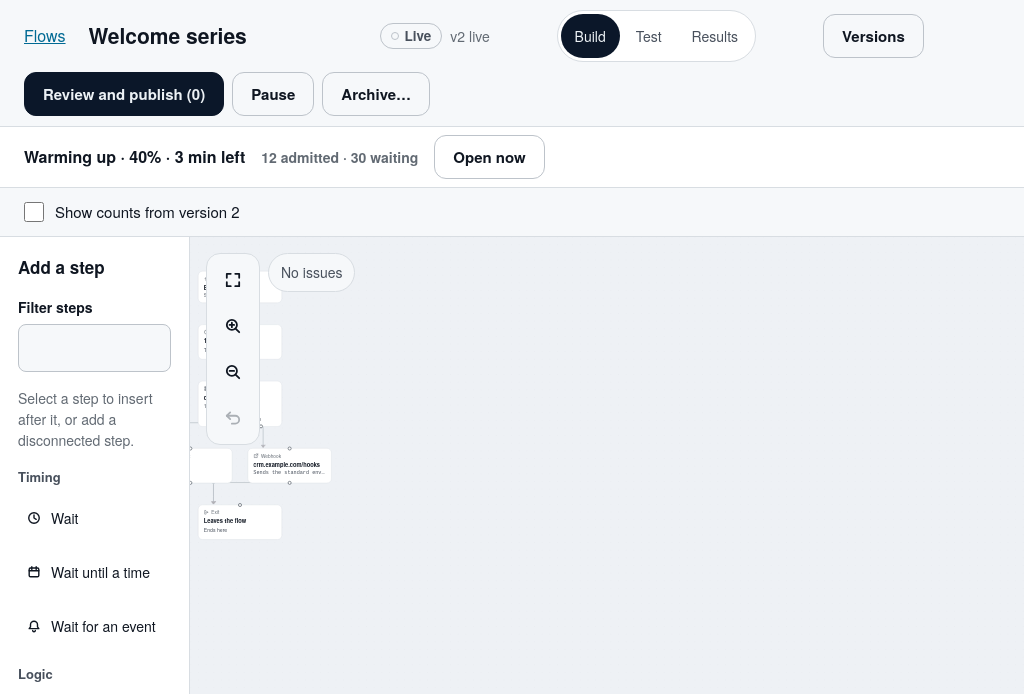
Test: the warm-up state line › says why when the flow could not be opened
The width and height of the screenshot is (1024, 694).
Click the button "Open now": click(490, 157) x1=434 y1=135 x2=545 y2=179
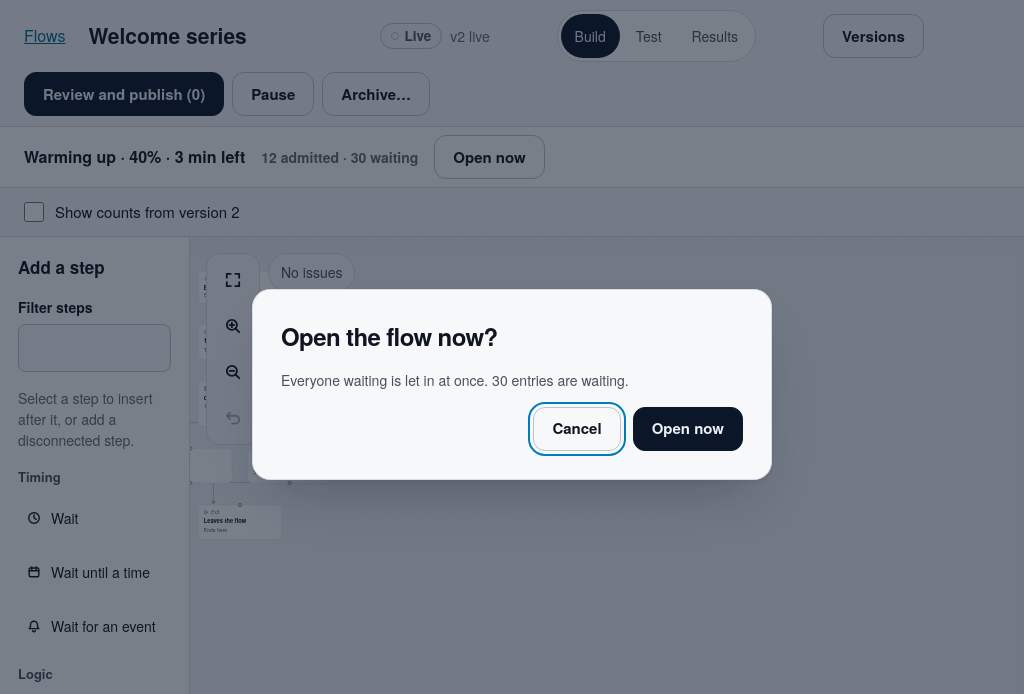
Click the button "Open now": click(688, 428) x1=633 y1=406 x2=743 y2=450
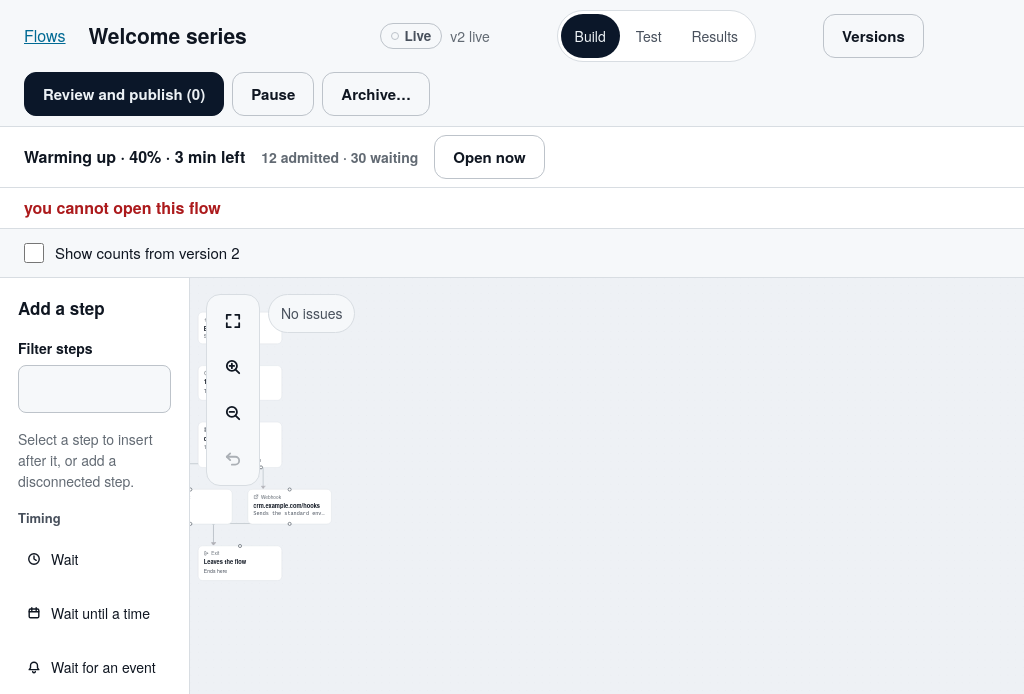
Check: the text "Warming up · 40% · 3 min left" is shown, box x1=24 y1=145 x2=245 y2=169
Check: the text "you cannot open this flow" is shown, box x1=0 y1=188 x2=1023 y2=229
